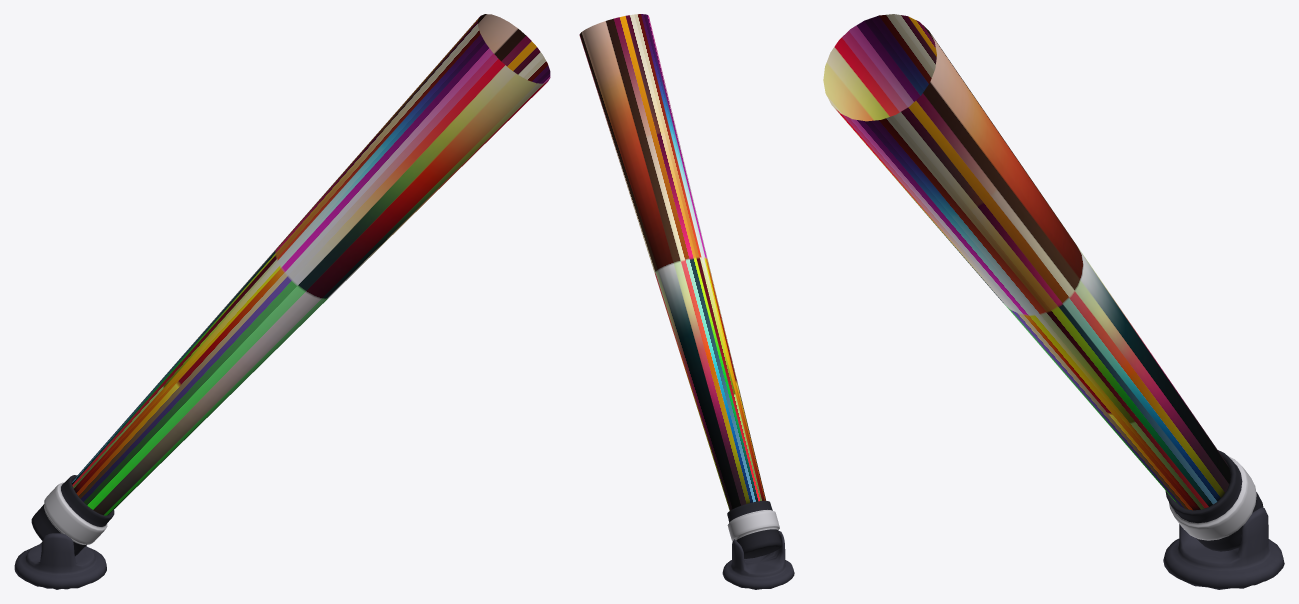
Rendered from deng.FBX.
3 views of the same model, side by side, from view 1: azimuth 30°, elevation 25°; view 2: azimuth 150°, elevation 25°; view 3: azimuth 270°, elevation 25° (orthographic). The views are drawn at different scales.
Visible parts, largest first — view 1: zhu, deng.001; view 2: zhu, deng.001; view 3: zhu, deng.001.
Boxes of the visible parts, <box> form: zhu: <box>72,14,550,515</box>; deng.001: <box>14,475,114,589</box>; zhu: <box>579,14,765,510</box>; deng.001: <box>722,500,794,589</box>; zhu: <box>823,14,1230,510</box>; deng.001: <box>1163,450,1284,589</box>.
Bounding box in the file's own units: 976 × 1350 × 760.
